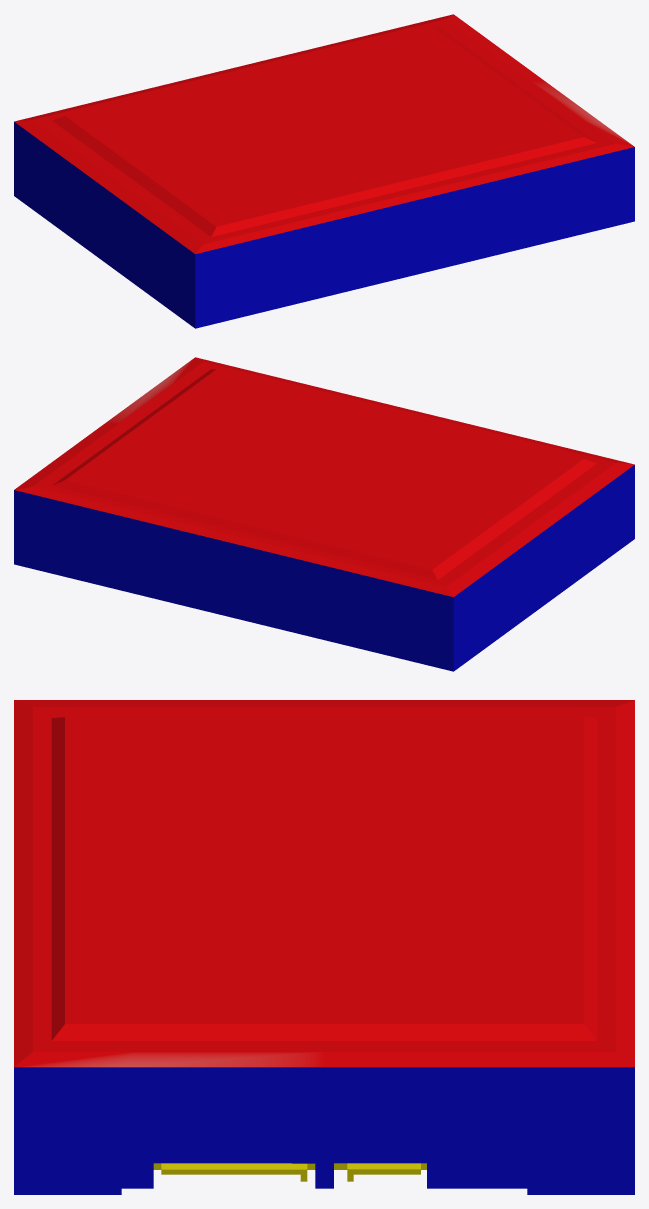
Rendered from HDD.fbx.
3 renders of one model, top to bottom at view 1: azimuth 30°, elevation 25°; view 2: azimuth 150°, elevation 25°; view 3: azimuth 270°, elevation 25°, orthographic. The views are drawn at different scales.
Parts seen in each view (by area): view 1: HDD; view 2: HDD; view 3: HDD.
Part boxes in pixels (left/top/right/bottom): HDD: left=14, top=14, right=634, bottom=328; HDD: left=14, top=357, right=634, bottom=671; HDD: left=14, top=700, right=634, bottom=1194.
Size of the model in its own units: 14 by 2.5 by 10.
